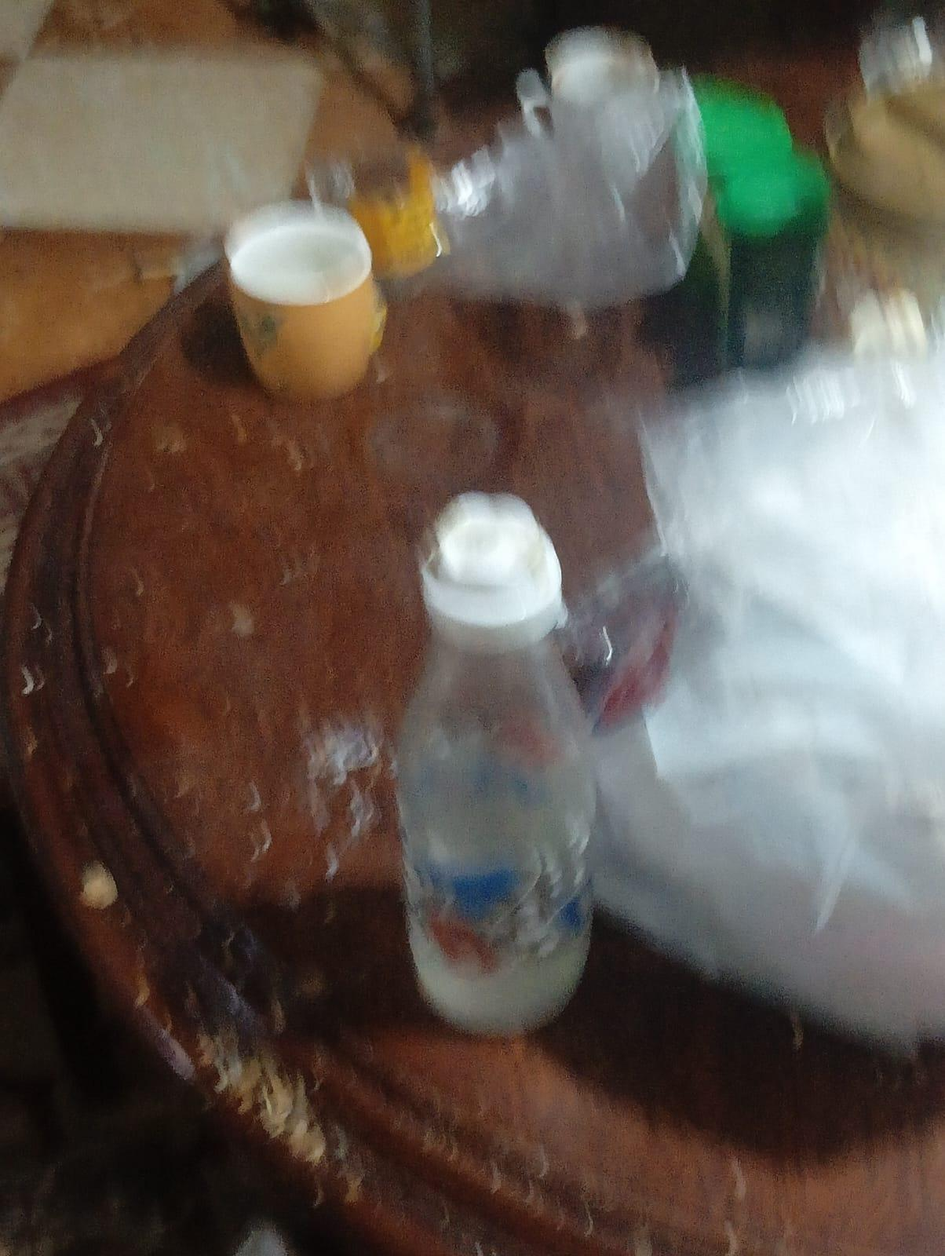cup: (224, 202, 382, 397), (307, 143, 444, 281), (545, 27, 656, 107)
